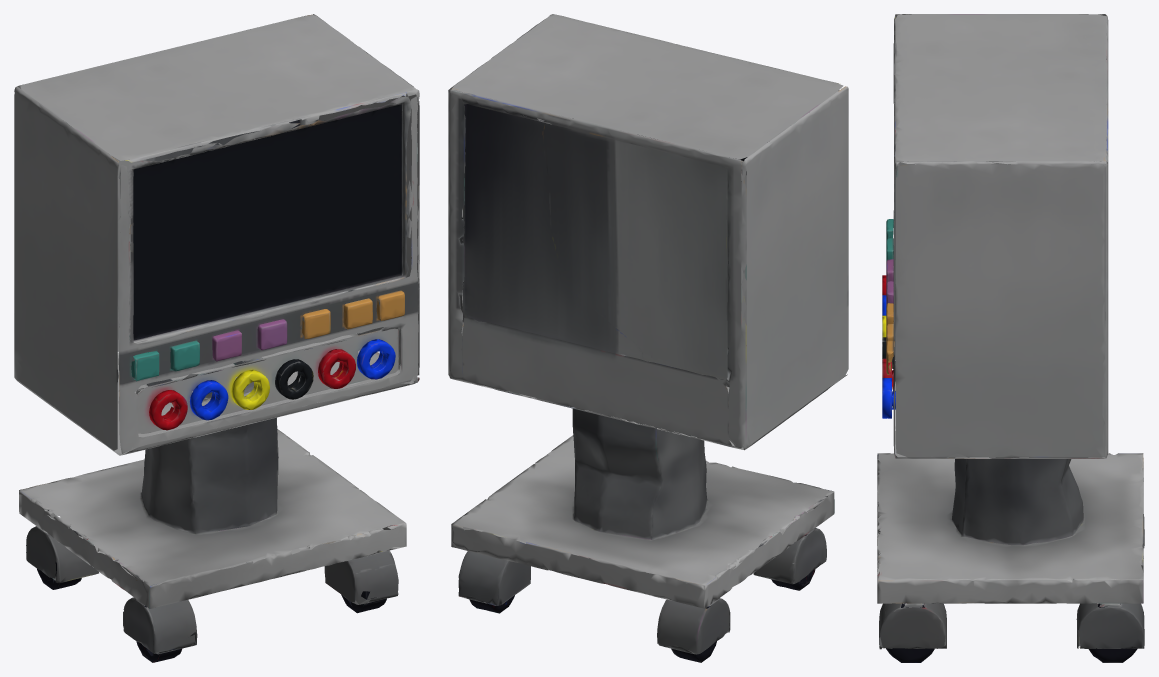
Rendered from ecg-cart.glb.
3 renders of one model, left to right at view 1: azimuth 30°, elevation 25°; view 2: azimuth 150°, elevation 25°; view 3: azimuth 270°, elevation 25°, orthographic. The views are drawn at different scales.
Visible parts, largest first — view 1: geometry_0; view 2: geometry_0; view 3: geometry_0.
Part boxes in pixels (box(x1,y1,x2,y2)): geometry_0: box(14, 14, 419, 662); geometry_0: box(448, 14, 848, 662); geometry_0: box(877, 14, 1144, 662).
Bounding box in the file's own units: 0.6176 × 1 × 0.4666.
Materials: 1 (1 with a texture image).
